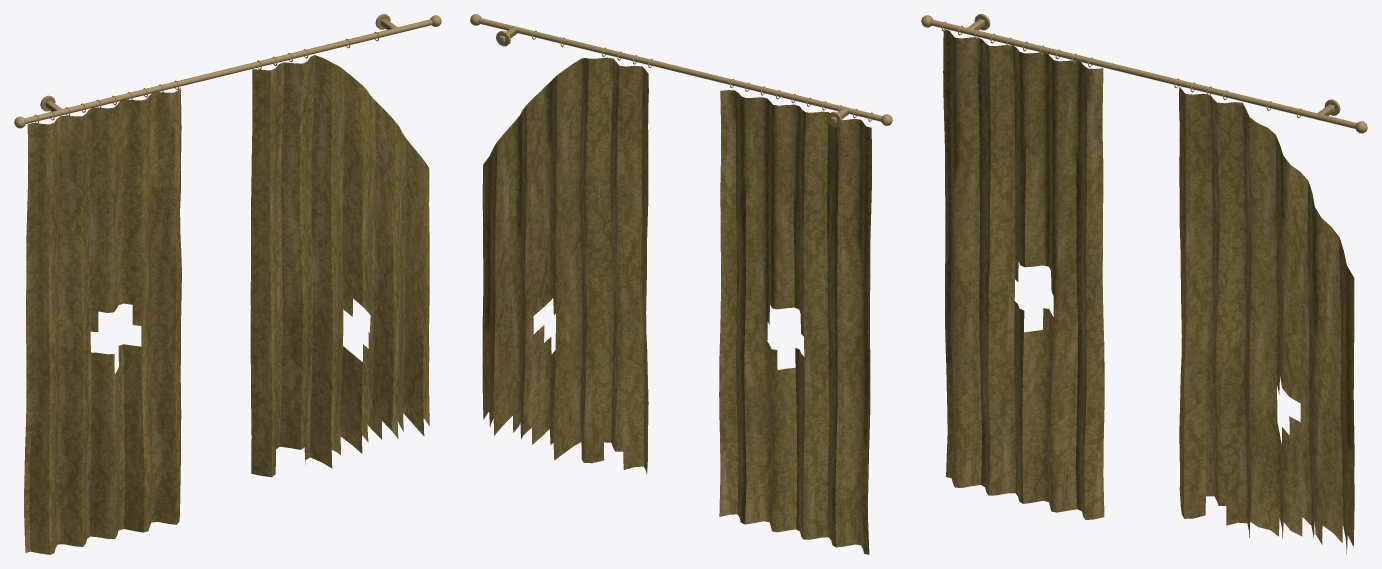
Rendered from curtain_torn.glb.
3 renders of one model, left to right at view 1: azimuth 30°, elevation 25°; view 2: azimuth 150°, elevation 25°; view 3: azimuth 330°, elevation 25°, orthographic. The views are drawn at different scales.
Visible parts, largest first — view 1: curtain_torn; view 2: curtain_torn; view 3: curtain_torn.
Part boxes in pixels (x1=…): curtain_torn: x1=14, y1=14, x2=441, y2=554; curtain_torn: x1=470, y1=14, x2=892, y2=554; curtain_torn: x1=921, y1=14, x2=1367, y2=554.
Size of the model in its own units: 1.78 by 1.78 by 0.1318.
2 materials, 1 textured.
